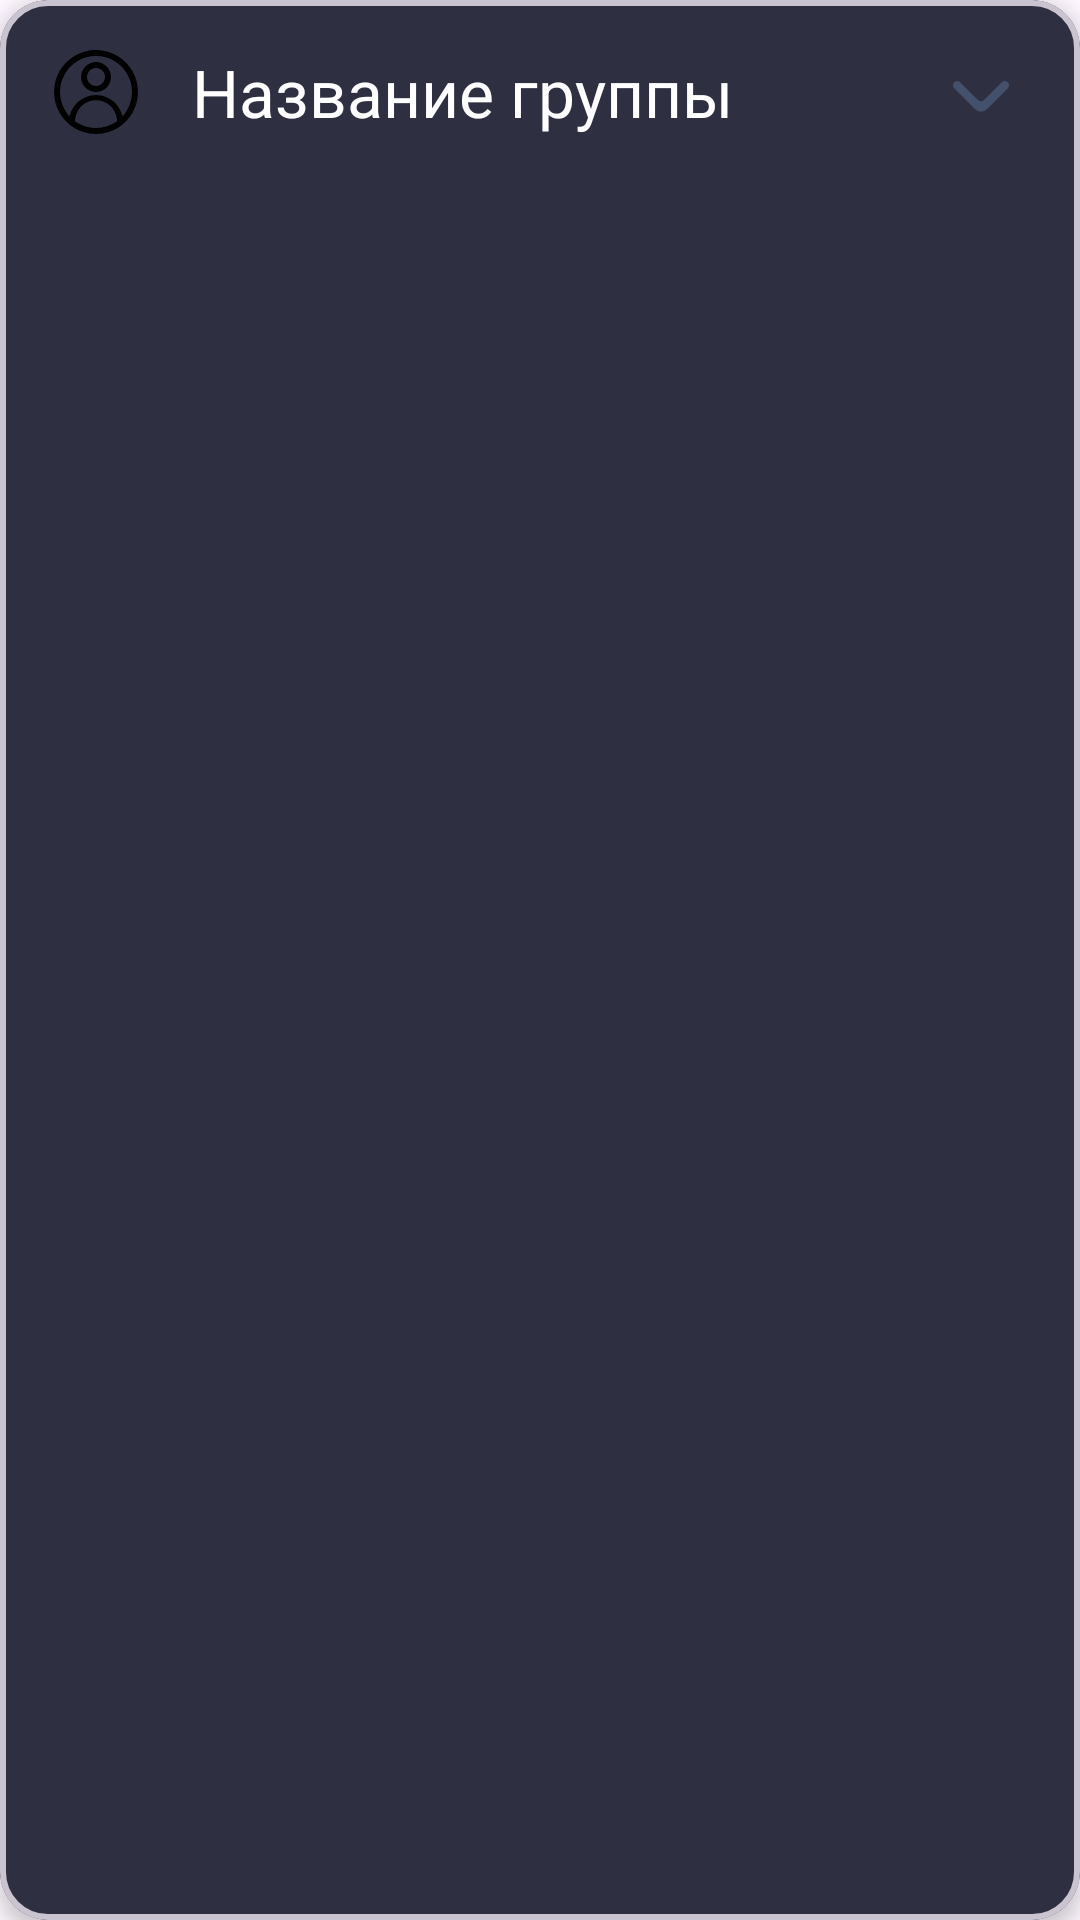

Screen size 1080 × 1920. Icon name, then its center in pixels as (x,y):
arrow down: (981,96)
user profile: (96,92)
